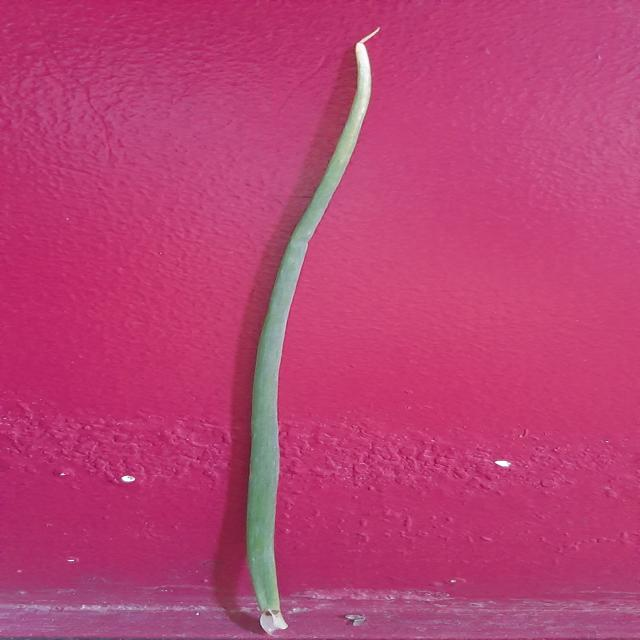onion: (247, 29, 379, 612)
